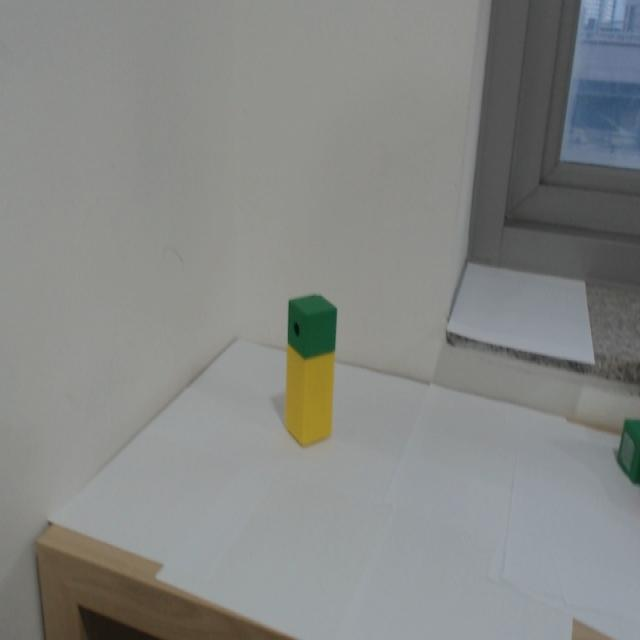cube: (285, 290, 341, 366)
